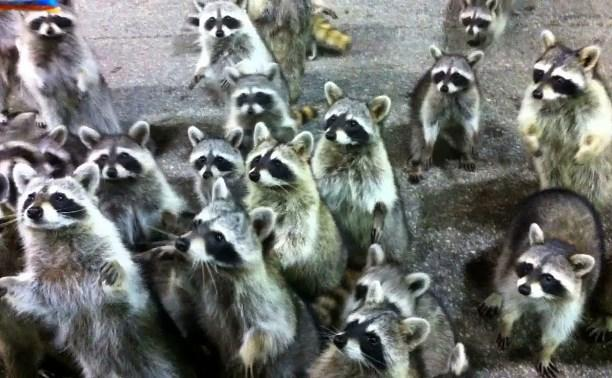raccoon: (0, 163, 182, 378), (176, 177, 320, 378), (480, 187, 602, 377), (314, 81, 412, 259), (187, 0, 318, 133), (340, 243, 467, 378), (519, 29, 612, 212), (18, 0, 120, 134), (76, 123, 188, 244), (312, 281, 430, 378), (408, 43, 484, 186), (221, 62, 299, 151), (185, 125, 250, 207), (24, 125, 75, 178), (458, 0, 509, 49)
